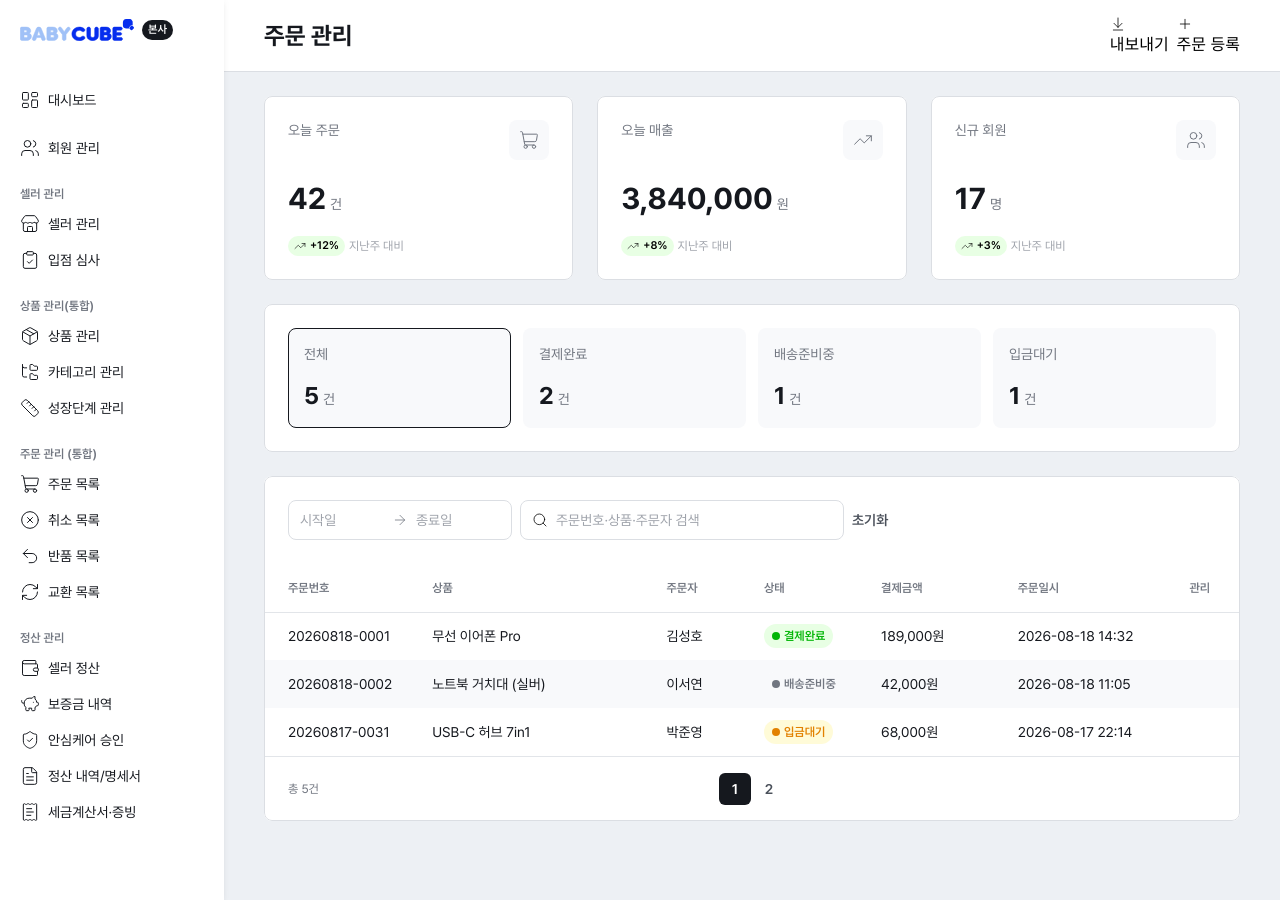
Test: OrderListPage › 상태 대시 = 필터 (StatGrid) › 결제완료를 고르면 결제완료 주문만 남는다
Step 1. Click the button "결제완료 2 건" → (634, 378), box [523,328,746,428]
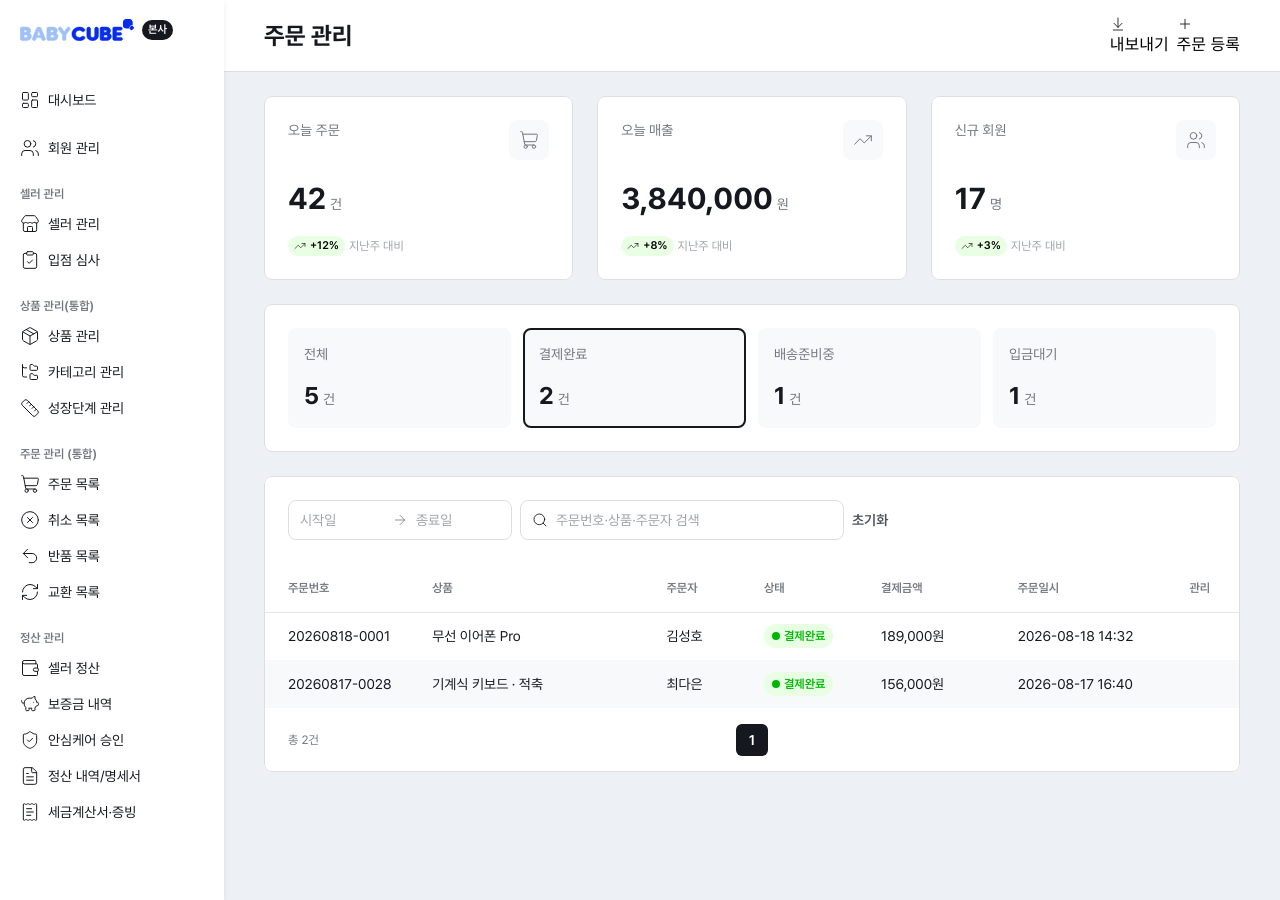
Now the text "총 2건" is shown, box [288,732,319,748]
